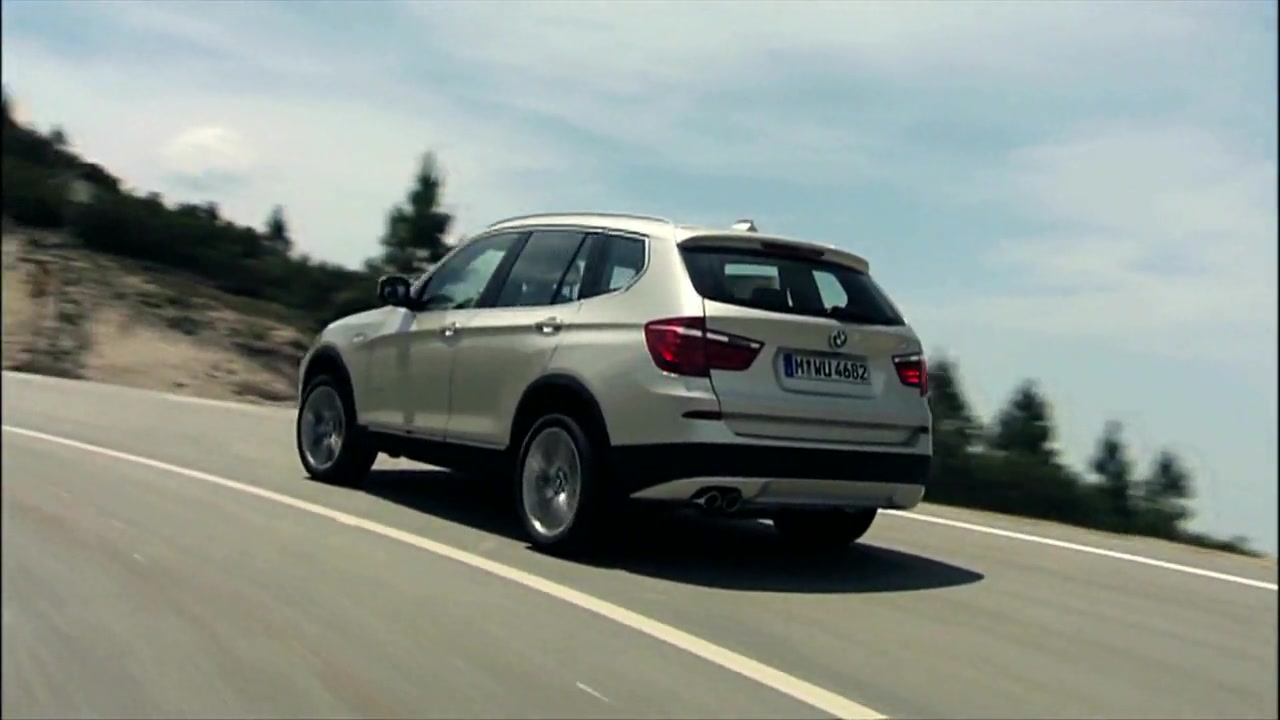car: (293, 214, 936, 557)
